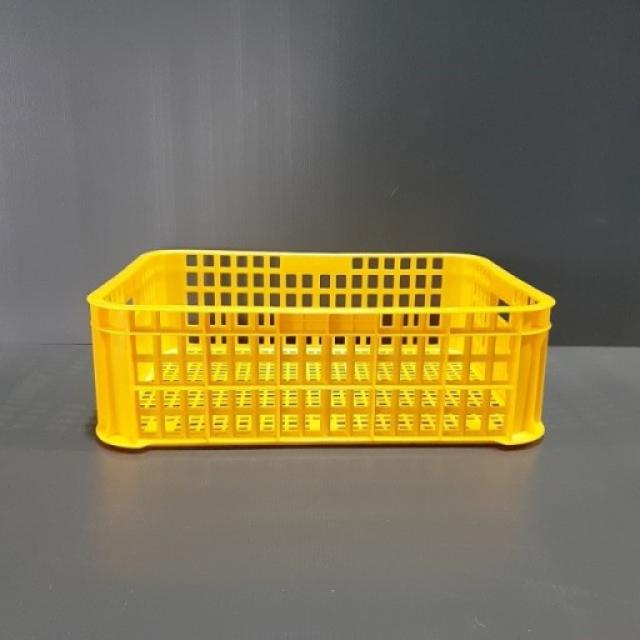basket: (87, 248, 556, 448)
